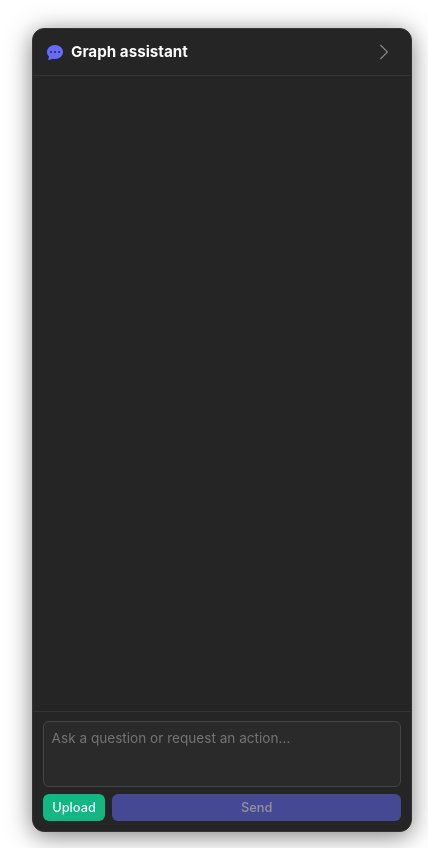
Test: ChatPanel › Message sending › sends message and displays response
This screenshot has width=428, height=848.
Type "Search for AI" into the text box with placeholder "Ask a question or request an action...".
click(222, 754); type("Search for AI")  # box [43,721,401,787]
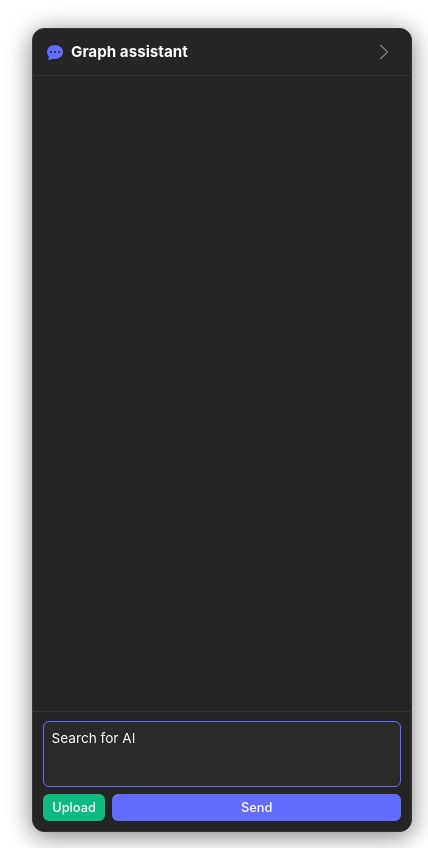
Click the button "Send".
click(257, 808)  # box [112,794,401,821]
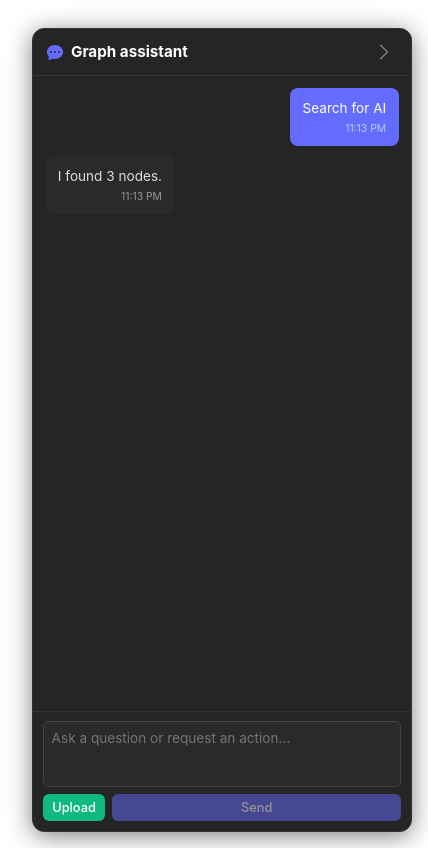
Result: the text "Search for AI" is shown at [302,98,386,118]
Result: the text "I found 3 nodes." is shown at [58,166,162,186]
